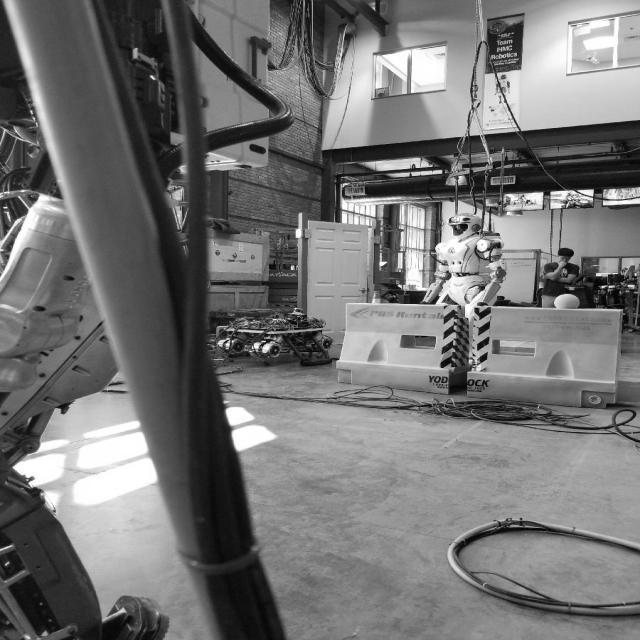door: (304, 218, 369, 354), (357, 284, 369, 294)
